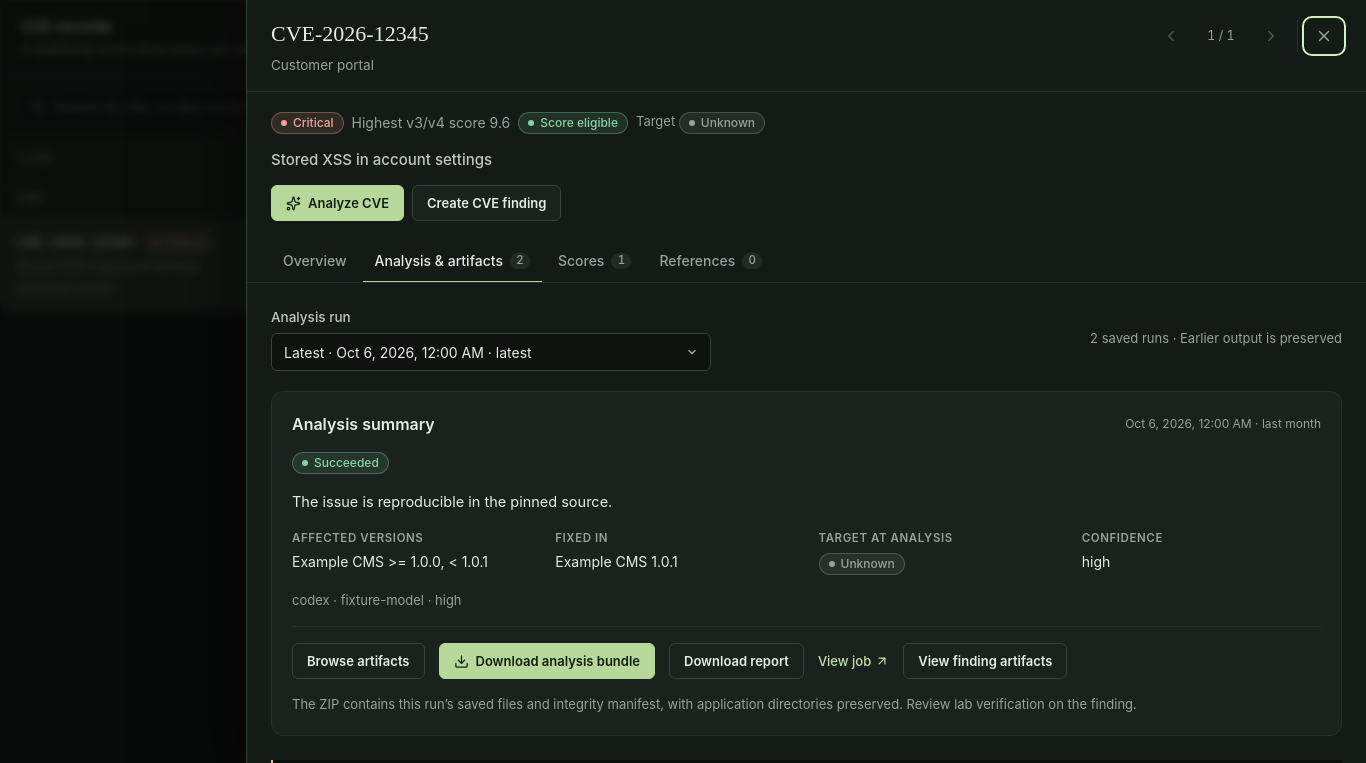
it: opens saved analysis links, switches runs, and downloads the selected run's immutable output
Check: the text "The issue is reproducible in the pinned source." is shown, box left=292, top=493, right=612, bottom=510
Check: the text "Earlier investigation retained partial evidence." is not shown
Select "Oct 5, 2026, 12:00 AM · earlier" in the dropdown labelled "Analysis run". click: {"x": 491, "y": 352}
box: left=271, top=333, right=711, bottom=371
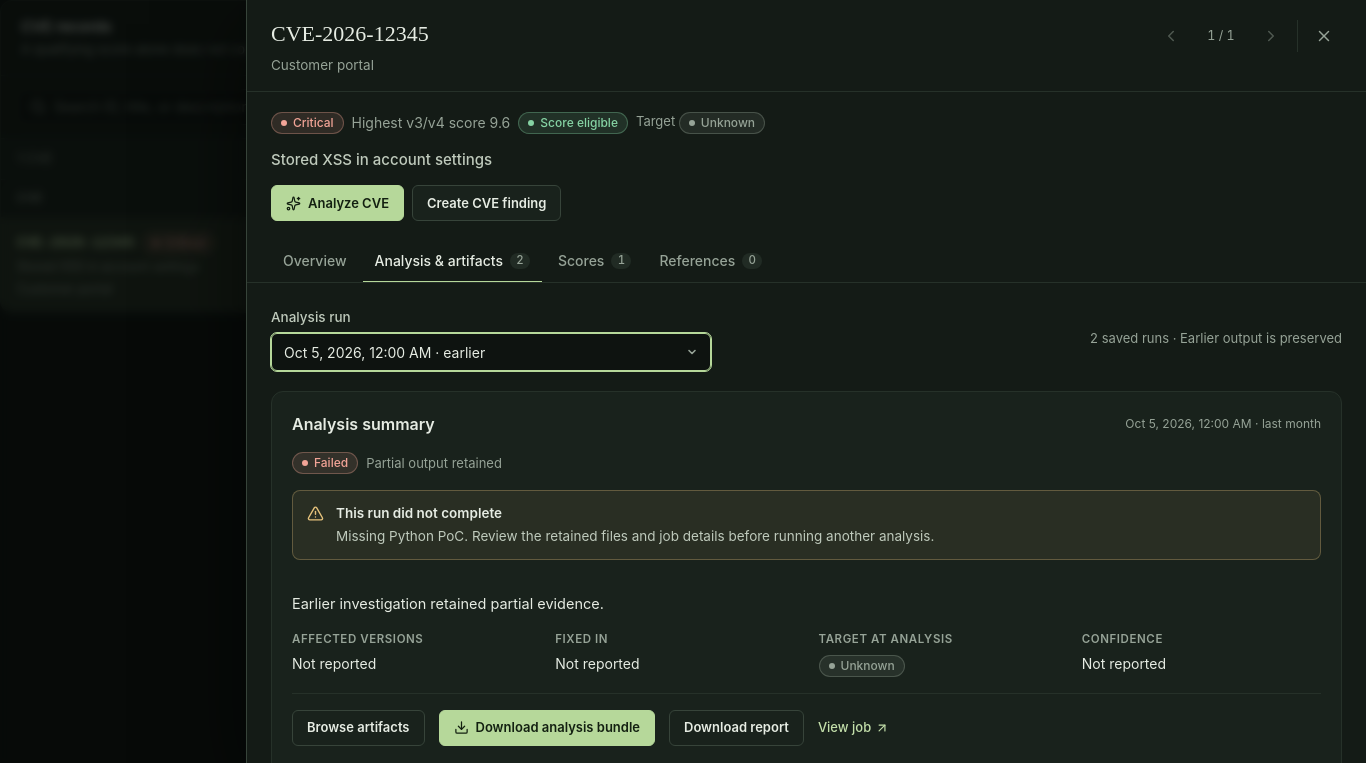
Check: the text "Missing Python PoC" is shown, box left=336, top=528, right=464, bottom=544
Click the button "Analyze CVE". click: {"x": 338, "y": 203}
box: left=271, top=185, right=404, bottom=221
(page scrolled)
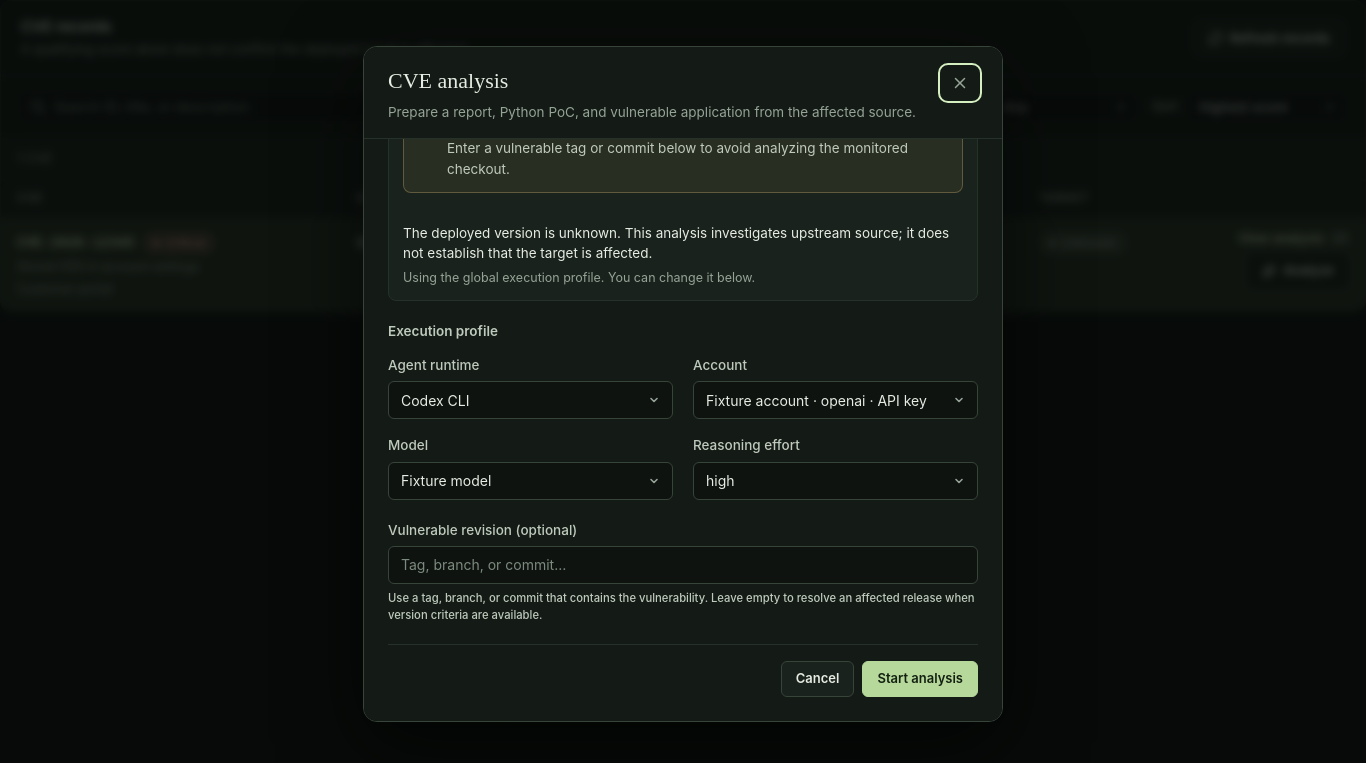
Click the button "Cancel". click: {"x": 818, "y": 679}
box: left=781, top=661, right=854, bottom=697
(page scrolled)
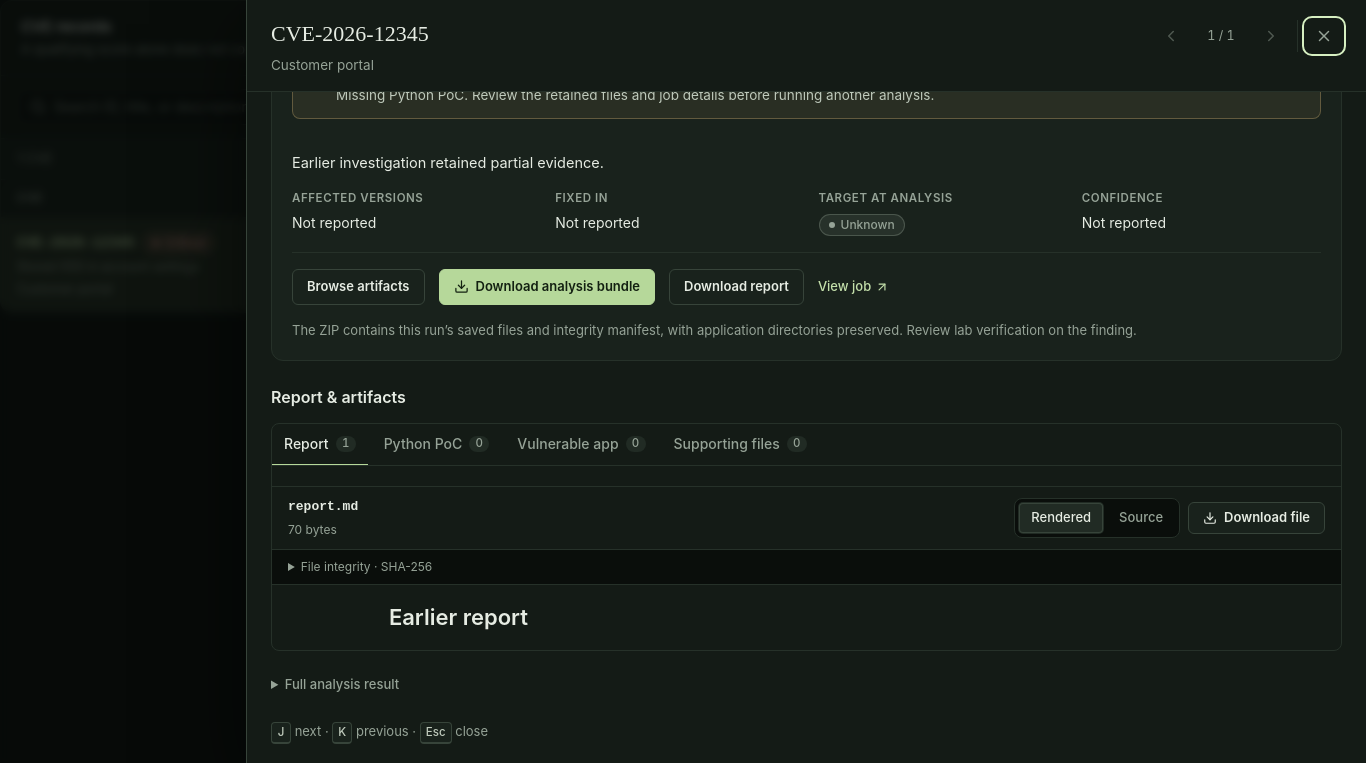
Check: the heading "Earlier report" is shown, box left=389, top=604, right=528, bottom=630
